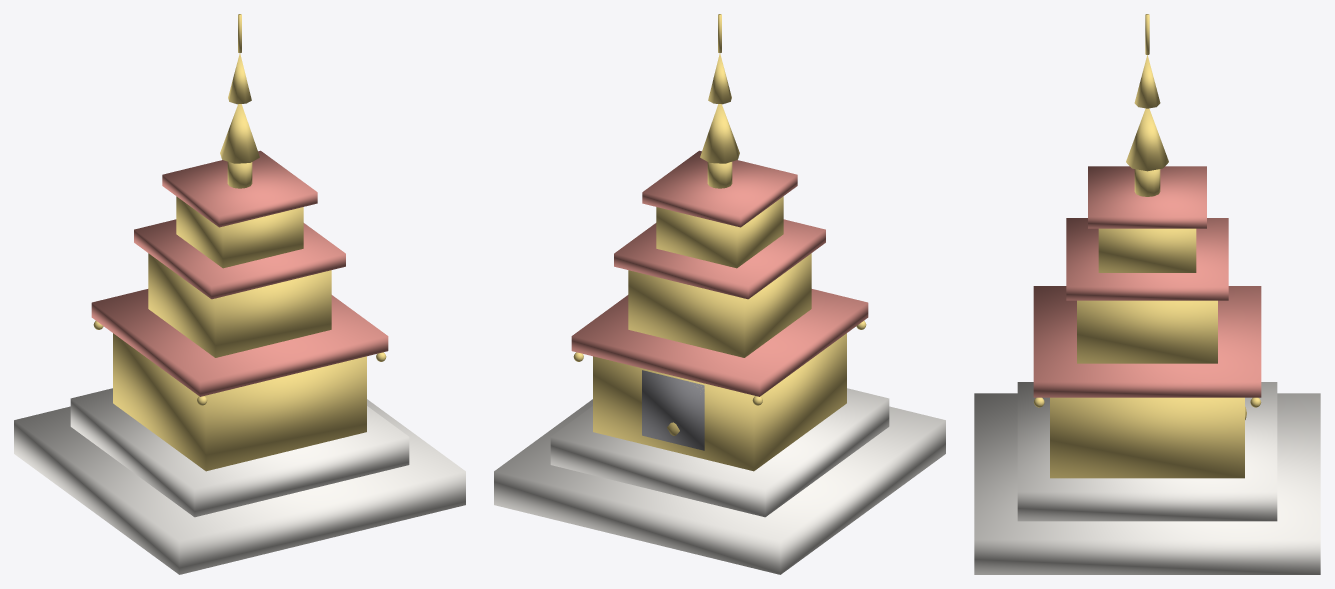
Rendered from wat_arun_lv3.glb.
3 views of the same model, side by side, from view 1: azimuth 30°, elevation 25°; view 2: azimuth 150°, elevation 25°; view 3: azimuth 270°, elevation 25° (orthographic). The views are drawn at different scales.
Visible parts, largest first — view 1: base_1, tier_1, base_2, tier_1_roof, tier_2, tier_2_roof, tier_3_roof, tier_3, spire_cone1, spire_cone2, spire_base; view 2: base_1, base_2, tier_1, tier_1_roof, tier_2, tier_2_roof, tier_3_roof, tier_3, buddha_niche, spire_cone1, spire_cone2, spire_base; view 3: base_1, base_2, tier_1, tier_1_roof, tier_2, tier_2_roof, tier_3_roof, tier_3, spire_cone1, spire_cone2, spire_base.
Part boxes in pixels (x1,y1,x2,y2): base_1: (14,399,465,574); tier_1: (113,333,366,471); base_2: (70,388,409,517); tier_1_roof: (91,289,388,396); tier_2: (148,253,331,357); tier_2_roof: (134,219,345,299); tier_3_roof: (162,150,317,227); tier_3: (176,196,303,268); spire_cone1: (220,104,259,163); spire_cone2: (228,53,251,104); spire_base: (227,162,252,188); base_1: (494,399,945,574); base_2: (550,388,889,517); tier_1: (593,333,846,471); tier_1_roof: (571,289,868,396); tier_2: (628,253,811,357); tier_2_roof: (614,219,825,299); tier_3_roof: (642,150,797,227); tier_3: (656,196,783,268); buddha_niche: (642,370,704,450); spire_cone1: (700,104,739,163); spire_cone2: (708,53,731,104); spire_base: (707,162,732,188); base_1: (974,393,1320,574); base_2: (1017,382,1277,521); tier_1: (1050,397,1244,478); tier_1_roof: (1033,286,1261,397); tier_2: (1077,300,1217,363); tier_2_roof: (1066,218,1228,300); tier_3_roof: (1088,166,1206,228); tier_3: (1098,228,1196,272); spire_cone1: (1126,108,1168,171); spire_cone2: (1134,55,1160,108); spire_base: (1134,169,1160,196).
Size of the model in its own units: 1.6 by 2.48 by 1.6.
